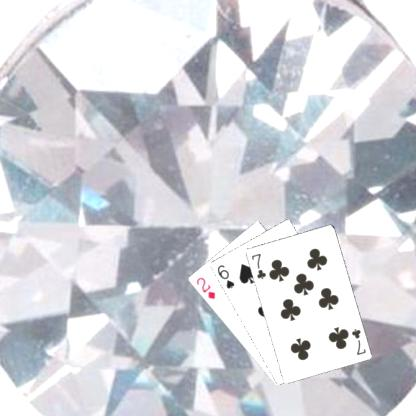2D: (193, 274, 216, 300)
6S: (214, 262, 236, 290)
7C: (248, 250, 267, 281), (348, 326, 367, 356)
